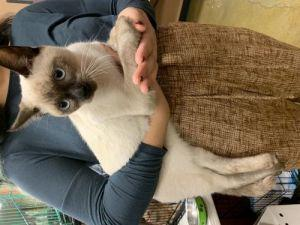siamese: (1, 35, 104, 138)
